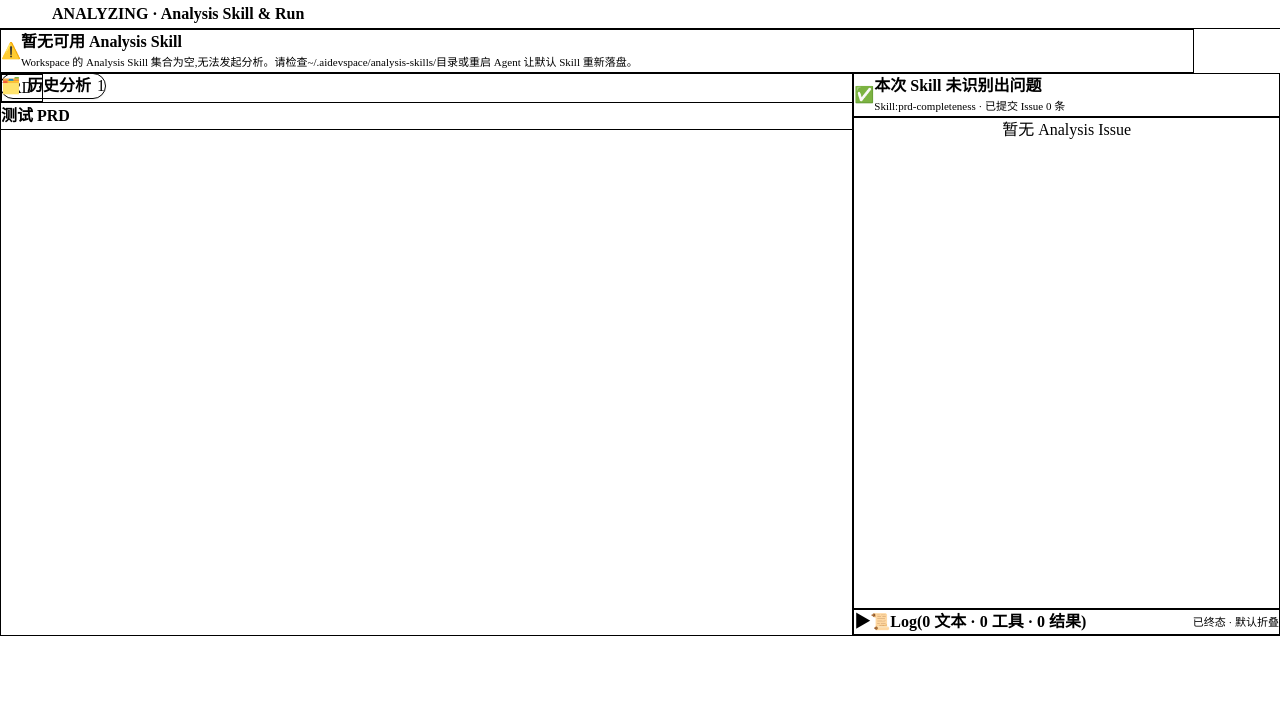
Test: AnalyzingZone · 删除 Run(issue 05 验收 8 / 9 / 11) › 点删除按钮 → 弹二次确认对话框
The image size is (1280, 720).
Click the button with test id "analysis-history-fab".
click(53, 86)  # box [0,73,106,99]
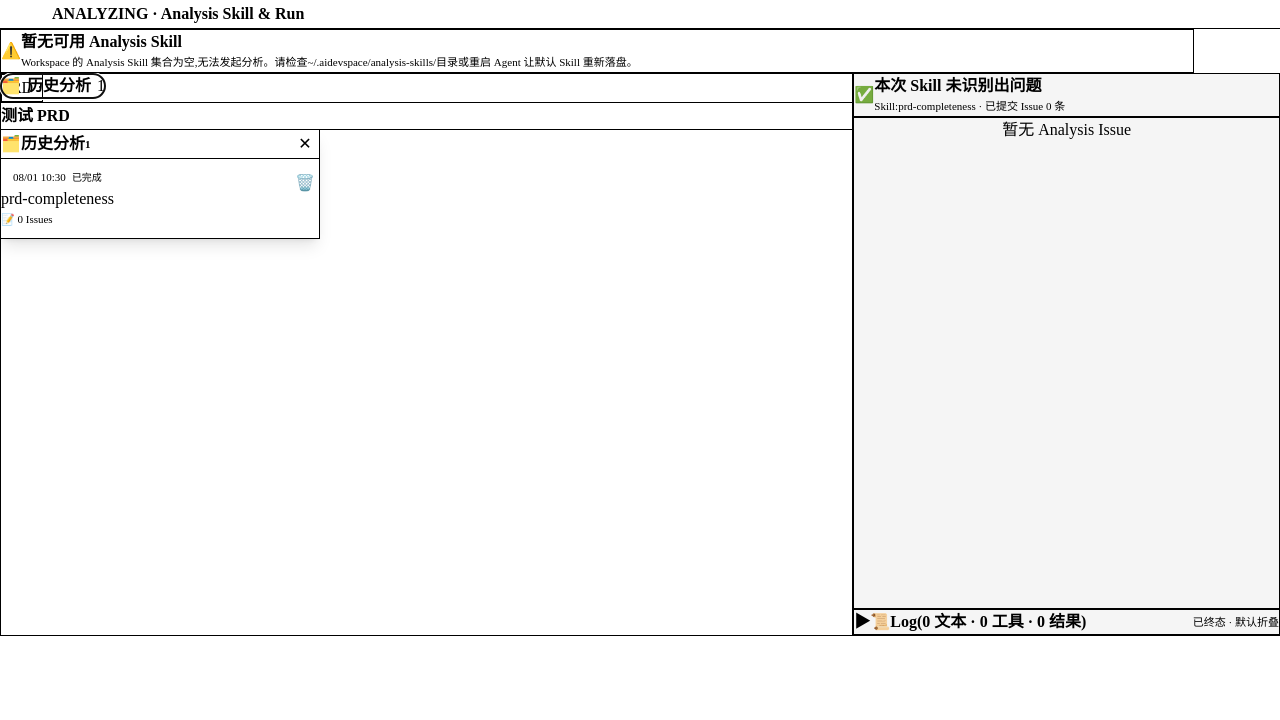
Expected: the element with test id "analysis-history-panel" is shown, [0,129,320,239]
Click the button with test id "analysis-history-row-delete".
click(305, 183)  # box [291,169,319,197]
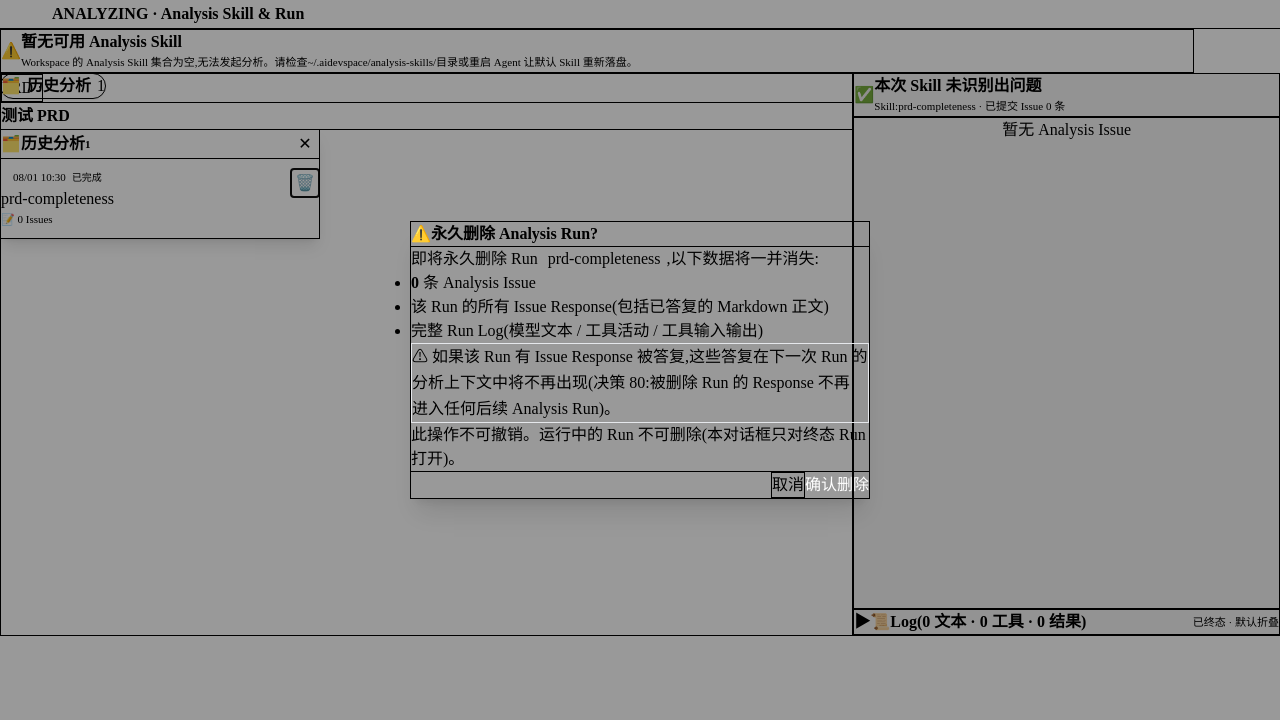
Expected: the text with test id "analysis-delete-dialog-skill" reads "prd-completeness", [548,250,661,267]
Expected: the text with test id "analysis-delete-dialog-context-warning" is shown, [411,343,869,423]
